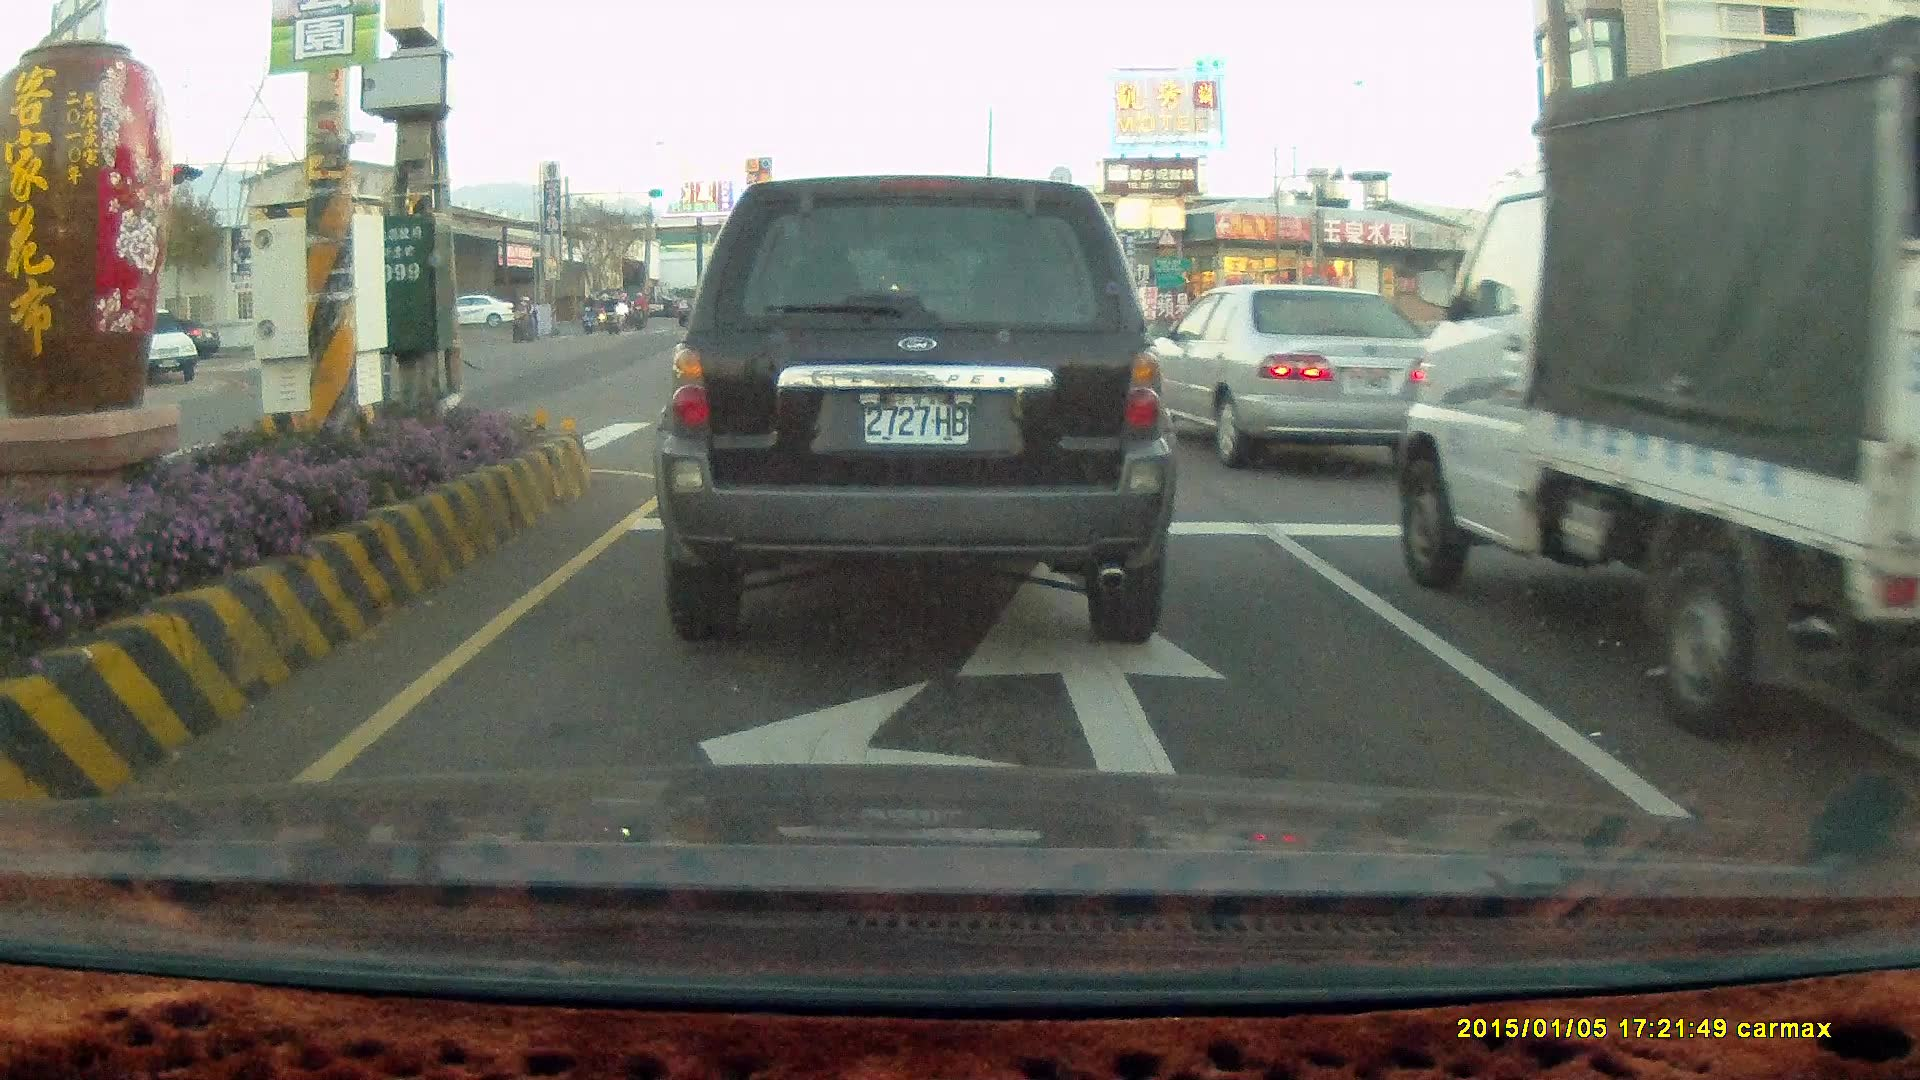rider: (505, 295, 537, 342), (602, 290, 628, 339), (578, 291, 599, 338), (628, 289, 650, 330), (584, 294, 606, 334)
vehicle: (1397, 17, 1920, 741), (649, 172, 1175, 642), (1137, 280, 1455, 469), (1131, 286, 1434, 466), (1686, 284, 1843, 372), (110, 309, 200, 390), (448, 297, 514, 330)
